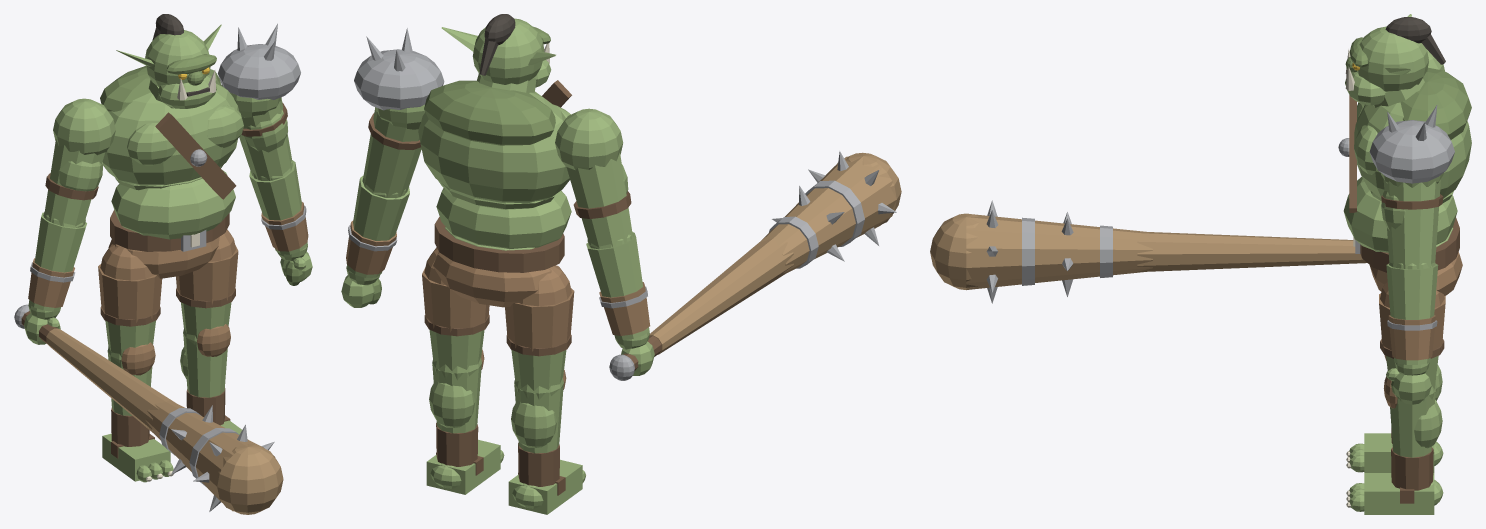
The model's file is REF_Orc_Assembled.fbx.
3 renders of one model, left to right at view 1: azimuth 30°, elevation 25°; view 2: azimuth 150°, elevation 25°; view 3: azimuth 270°, elevation 25°, orthographic. The views are drawn at different scales.
Parts seen in each view (by area): view 1: SM_Orc_Chest, SM_Club_Big, SM_Orc_UpperArm_L, SM_Orc_Spine, SM_Orc_Pelvis, SM_Orc_Head, SM_Orc_Thigh_R, SM_Orc_Forearm_R, SM_Orc_Thigh_L, SM_Orc_UpperArm_R, SM_Orc_Shin_L, SM_Orc_Forearm_L (+4 smaller); view 2: SM_Orc_Chest, SM_Club_Big, SM_Orc_UpperArm_L, SM_Orc_Pelvis, SM_Orc_Spine, SM_Orc_Thigh_R, SM_Orc_Head, SM_Orc_Thigh_L, SM_Orc_Forearm_R, SM_Orc_UpperArm_R, SM_Orc_Shin_L, SM_Orc_Shin_R (+4 smaller); view 3: SM_Club_Big, SM_Orc_UpperArm_L, SM_Orc_Chest, SM_Orc_Head, SM_Orc_Forearm_L, SM_Orc_Shin_L, SM_Orc_Foot_L, SM_Orc_Spine, SM_Orc_Pelvis, SM_Orc_Foot_R, SM_Orc_Thigh_L, SM_Orc_Hand_L.
Boxes of the visible parts, box(x1,y1,x2,y2) form: SM_Orc_Chest: box(53, 66, 281, 199); SM_Club_Big: box(14, 304, 283, 514); SM_Orc_UpperArm_L: box(217, 23, 300, 180); SM_Orc_Spine: box(111, 164, 235, 239); SM_Orc_Pelvis: box(100, 210, 236, 280); SM_Orc_Head: box(116, 14, 221, 108); SM_Orc_Thigh_R: box(98, 264, 162, 363); SM_Orc_Forearm_R: box(28, 212, 86, 319); SM_Orc_Thigh_L: box(176, 245, 238, 344); SM_Orc_UpperArm_R: box(43, 139, 105, 227); SM_Orc_Shin_L: box(180, 324, 230, 425); SM_Orc_Forearm_L: box(249, 160, 308, 260); SM_Orc_Chest: box(375, 80, 623, 203); SM_Club_Big: box(609, 151, 901, 380); SM_Orc_UpperArm_L: box(354, 28, 444, 198); SM_Orc_Pelvis: box(424, 217, 571, 307); SM_Orc_Spine: box(436, 180, 571, 250); SM_Orc_Thigh_R: box(505, 288, 574, 399); SM_Orc_Head: box(441, 14, 555, 92); SM_Orc_Thigh_L: box(422, 267, 489, 379); SM_Orc_Forearm_R: box(586, 232, 650, 349); SM_Orc_UpperArm_R: box(566, 153, 633, 249); SM_Orc_Shin_L: box(429, 349, 484, 466); SM_Orc_Shin_R: box(511, 369, 566, 486); SM_Club_Big: box(930, 200, 1366, 303); SM_Orc_UpperArm_L: box(1369, 105, 1454, 269); SM_Orc_Chest: box(1338, 49, 1471, 212); SM_Orc_Head: box(1345, 14, 1445, 107); SM_Orc_Forearm_L: box(1386, 263, 1438, 375); SM_Orc_Shin_L: box(1383, 376, 1442, 490); SM_Orc_Foot_L: box(1346, 473, 1443, 514); SM_Orc_Spine: box(1343, 177, 1457, 252); SM_Orc_Pelvis: box(1353, 217, 1462, 307); SM_Orc_Foot_R: box(1346, 433, 1443, 472); SM_Orc_Thigh_L: box(1379, 293, 1445, 401); SM_Orc_Hand_L: box(1386, 368, 1431, 404).
Size of the model in its own units: 1.49 by 1.99 by 2.09.
